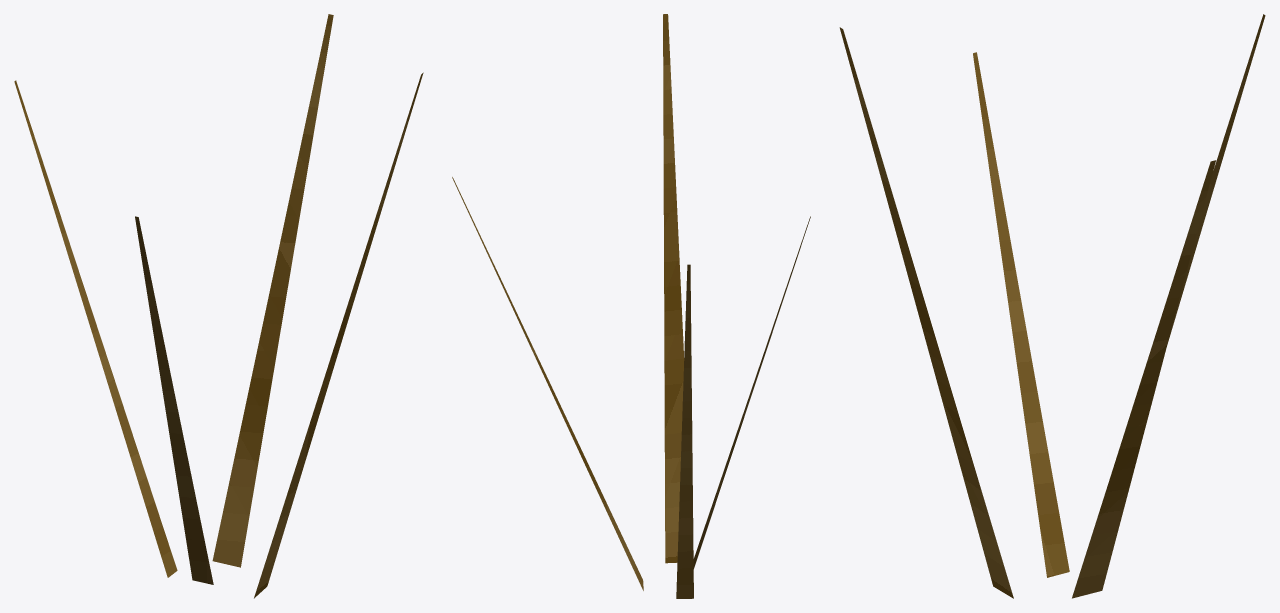
The model's file is grass_dry3-lod2.glb.
The picture shows the model from 3 angles, left to right: view 1: azimuth 30°, elevation 25°; view 2: azimuth 150°, elevation 25°; view 3: azimuth 270°, elevation 25°; orthographic projection. The views are drawn at different scales.
Parts seen in each view (by area): view 1: TZ_ground_plant_Batch_00_LOD2; view 2: TZ_ground_plant_Batch_00_LOD2; view 3: TZ_ground_plant_Batch_00_LOD2.
Boxes of the visible parts, <box> form: TZ_ground_plant_Batch_00_LOD2: <box>14,14,423,598</box>; TZ_ground_plant_Batch_00_LOD2: <box>452,14,810,598</box>; TZ_ground_plant_Batch_00_LOD2: <box>839,14,1265,598</box>.
Size of the model in its own units: 0.3232 by 0.56 by 0.3528.
Materials: 1 (1 with a texture image).
